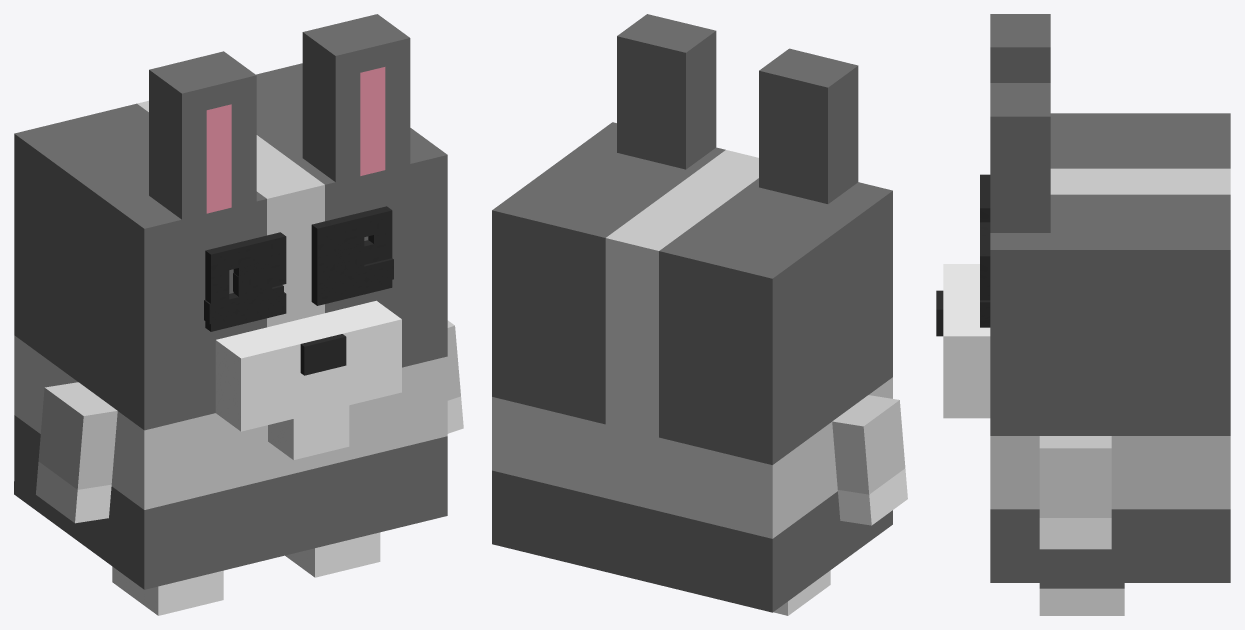
The picture shows the model from 3 angles, left to right: view 1: azimuth 30°, elevation 25°; view 2: azimuth 150°, elevation 25°; view 3: azimuth 270°, elevation 25°; orthographic projection. The views are drawn at different scales.
Parts seen in each view (by area): view 1: Ch_26, Ch_26_Ear, Ch_26_Hand_L, Ch_26_Eye_03_R, Ch_26_Eye_03_L, Ch_26_Leg_L, Ch_26_Leg_R, Ch_26_Hand_R; view 2: Ch_26, Ch_26_Ear, Ch_26_Hand_L, Ch_26_Leg_L; view 3: Ch_26, Ch_26_Ear, Ch_26_Hand_R, Ch_26_Leg_R, Ch_26_Eye_03_R, Ch_26_Eye_03_L.
Boxes of the visible parts, box(x1,y1,x2,y2) form: Ch_26: box(14, 63, 447, 589); Ch_26_Ear: box(149, 14, 410, 219); Ch_26_Hand_L: box(36, 382, 117, 523); Ch_26_Eye_03_R: box(311, 206, 392, 305); Ch_26_Eye_03_L: box(205, 232, 286, 331); Ch_26_Leg_L: box(112, 566, 223, 615); Ch_26_Leg_R: box(285, 532, 380, 577); Ch_26_Hand_R: box(447, 320, 463, 433); Ch_26: box(492, 122, 892, 612); Ch_26_Ear: box(617, 14, 858, 203); Ch_26_Hand_L: box(832, 395, 907, 525); Ch_26_Leg_L: box(773, 570, 830, 615); Ch_26: box(936, 113, 1230, 582); Ch_26_Ear: box(990, 14, 1050, 232); Ch_26_Hand_R: box(1039, 436, 1111, 549); Ch_26_Leg_R: box(1039, 583, 1124, 615); Ch_26_Eye_03_R: box(980, 222, 990, 327); Ch_26_Eye_03_L: box(980, 174, 990, 222).
Bounding box in the file's own units: 8.64 × 11.53 × 6.14.
